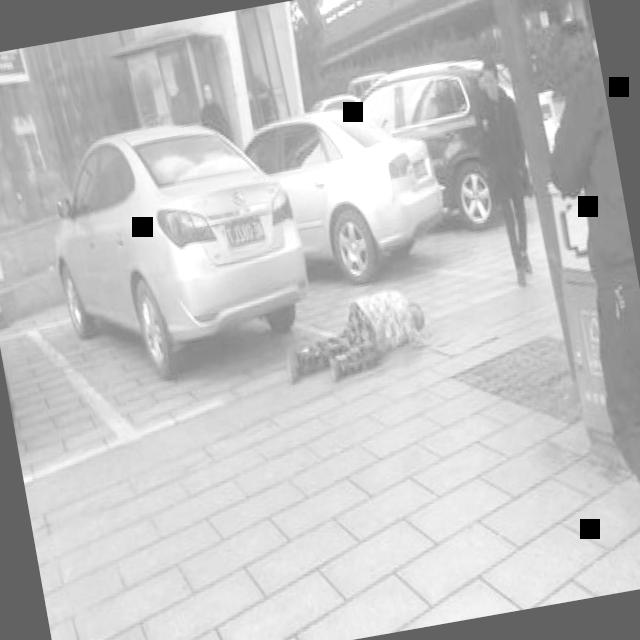Fall-Detected: (273, 268, 447, 404)
